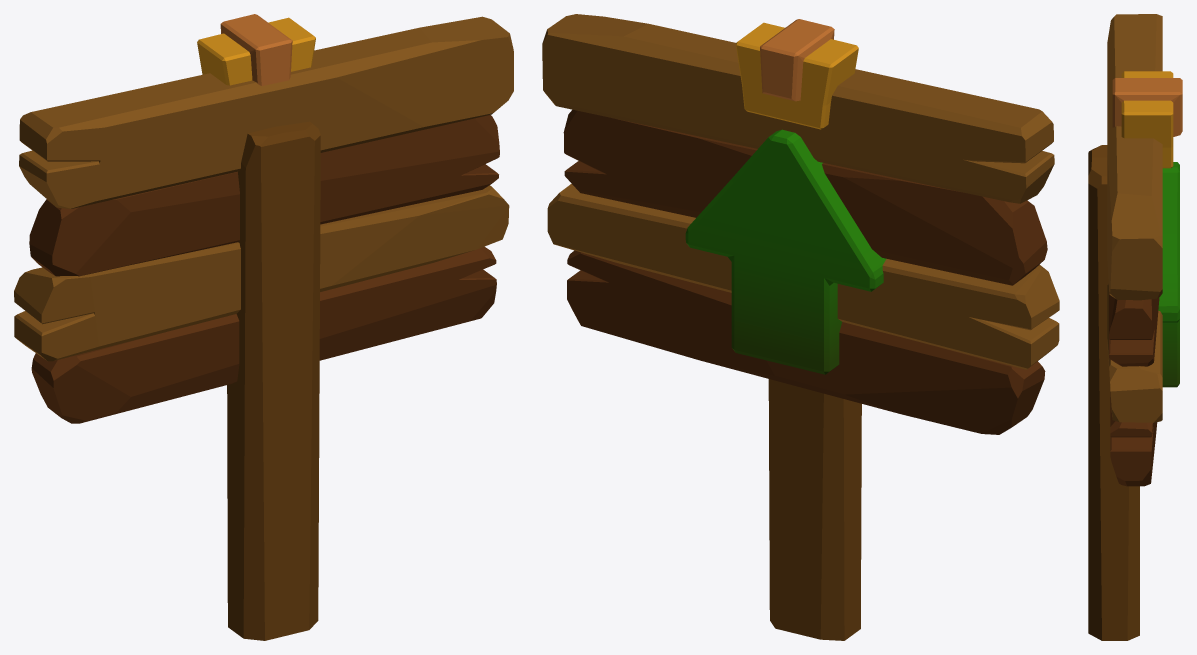
Rendered from SignPost04.fbx.
3 views of the same model, side by side, from view 1: azimuth 30°, elevation 25°; view 2: azimuth 150°, elevation 25°; view 3: azimuth 270°, elevation 25° (orthographic). The views are drawn at different scales.
Parts seen in each view (by area): view 1: LOD0; view 2: LOD0; view 3: LOD0.
Part boxes in pixels (x1=…): LOD0: x1=14, y1=14, x2=513, y2=640; LOD0: x1=542, y1=14, x2=1059, y2=640; LOD0: x1=1088, y1=14, x2=1182, y2=640.
Size of what is drawn, in the model's own units: 149 by 27.69 by 175.
